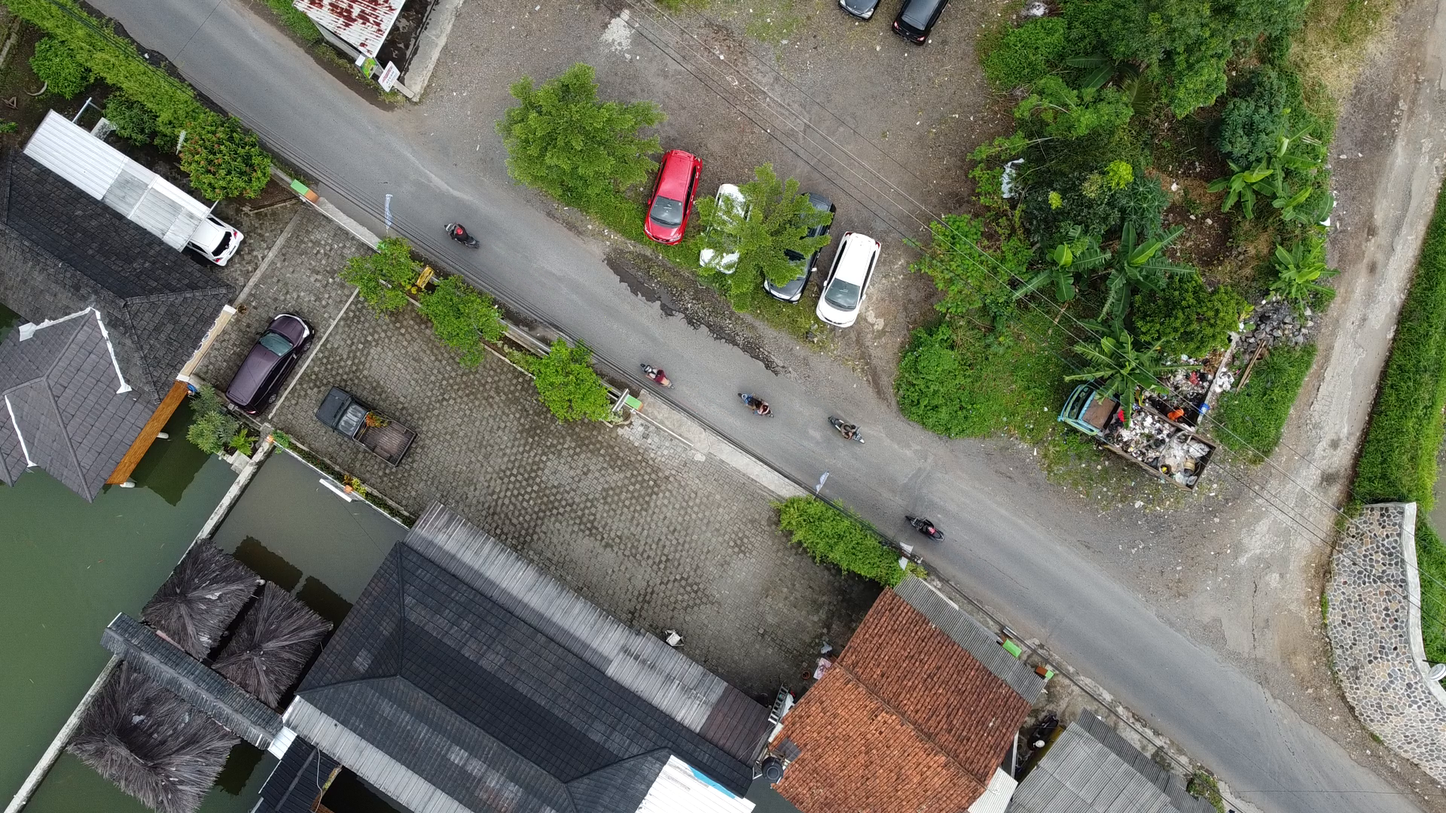mobil: (217, 300, 325, 424), (758, 178, 842, 310), (306, 370, 416, 467), (819, 230, 895, 337), (635, 139, 704, 252), (696, 174, 760, 282), (889, 2, 956, 59), (182, 211, 243, 263)
